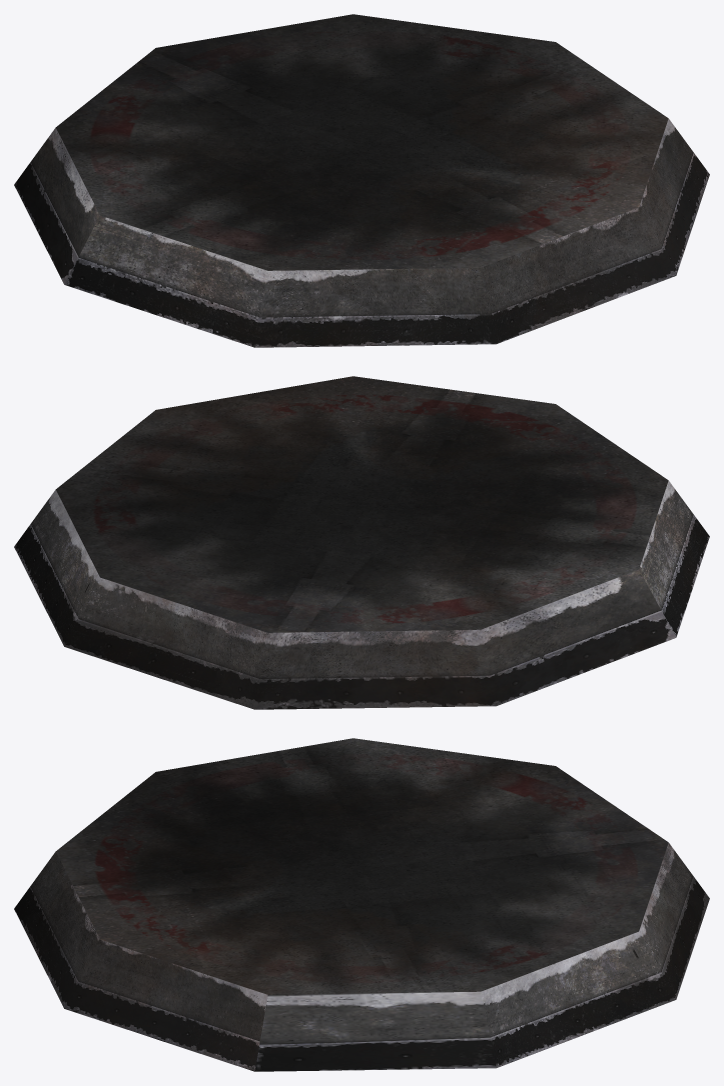
Rendered from canon_plasma_lod1.FBX.
The picture shows the model from 3 angles, top to bottom: view 1: azimuth 30°, elevation 25°; view 2: azimuth 150°, elevation 25°; view 3: azimuth 270°, elevation 25°; orthographic projection.
Visible parts, largest first — view 1: Plasma_Base_01; view 2: Plasma_Base_01; view 3: Plasma_Base_01.
Boxes of the visible parts, x1,y1,x2,y2 form: Plasma_Base_01: (14,14,709,347); Plasma_Base_01: (14,376,709,709); Plasma_Base_01: (14,738,709,1071).
Size of what is drawn, in the model's own units: 2.29 by 0.2199 by 2.32.
Materials: 1 (1 with a texture image).
